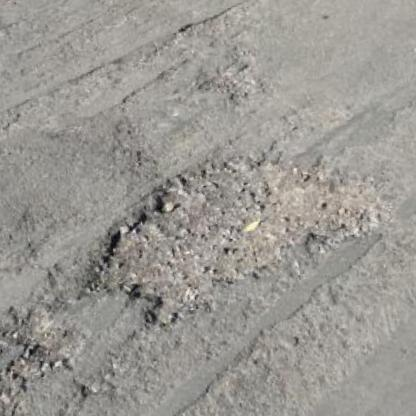pothole: (59, 116, 414, 345), (0, 294, 98, 378), (190, 53, 271, 109)
